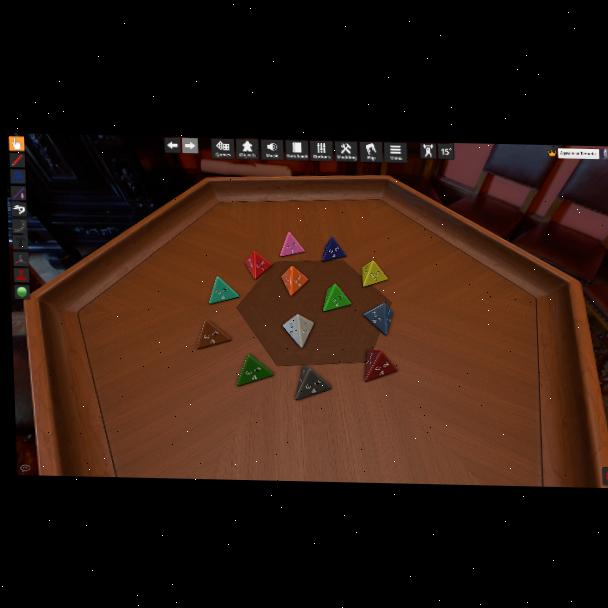d4: (295, 366, 333, 401), (235, 354, 274, 388), (282, 314, 316, 349), (363, 302, 394, 336), (196, 319, 230, 350), (364, 350, 396, 382), (322, 283, 352, 313), (208, 276, 239, 305), (281, 266, 309, 297), (362, 260, 388, 288), (246, 251, 271, 280), (279, 232, 305, 259), (320, 236, 346, 262)
